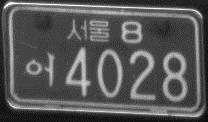0: (97, 49, 124, 98)
2: (126, 49, 158, 101)
4: (64, 46, 92, 98)
8: (162, 52, 189, 102), (119, 19, 144, 45)
서울_O: (67, 17, 112, 44)
어: (25, 51, 56, 87)
